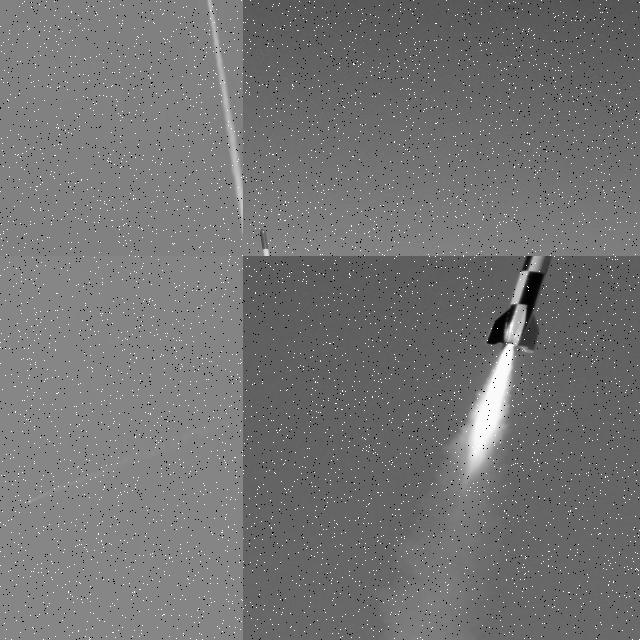Rocket: (484, 256, 556, 354), (258, 227, 281, 256), (28, 501, 30, 503)
